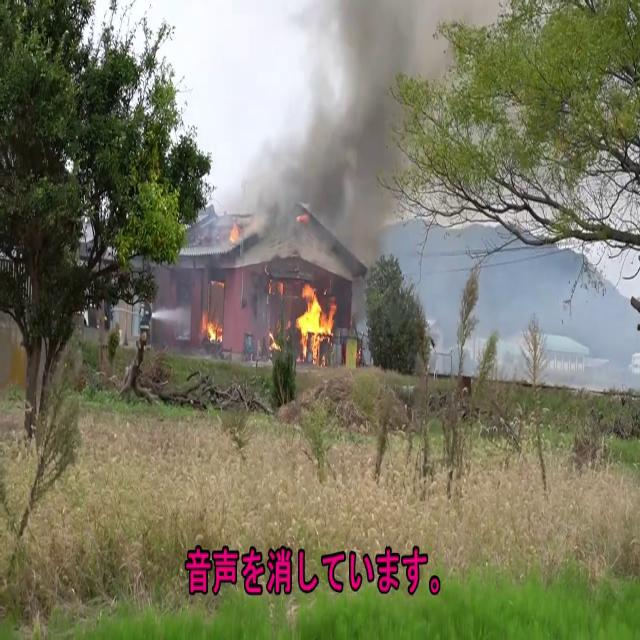Fire: (289, 278, 339, 360)
Smoke: (237, 0, 428, 281)
